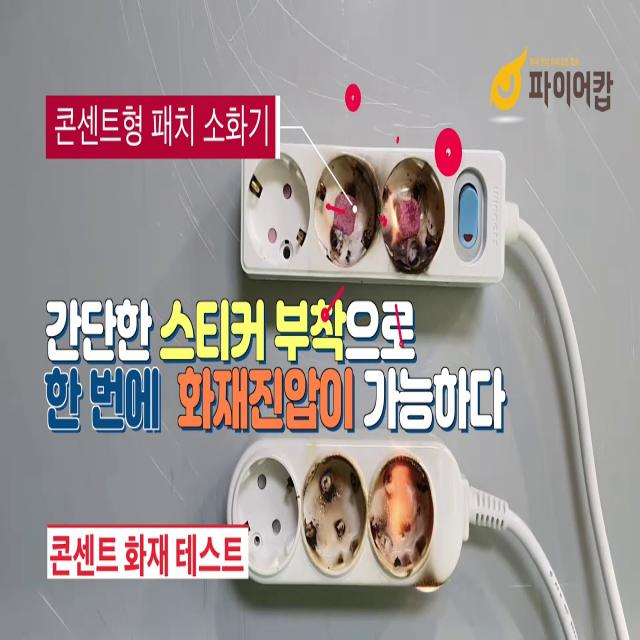typeb: (222, 437, 303, 608)
